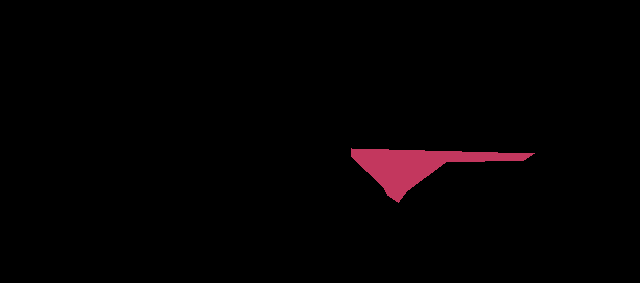Airplane: (351, 148, 535, 202)
